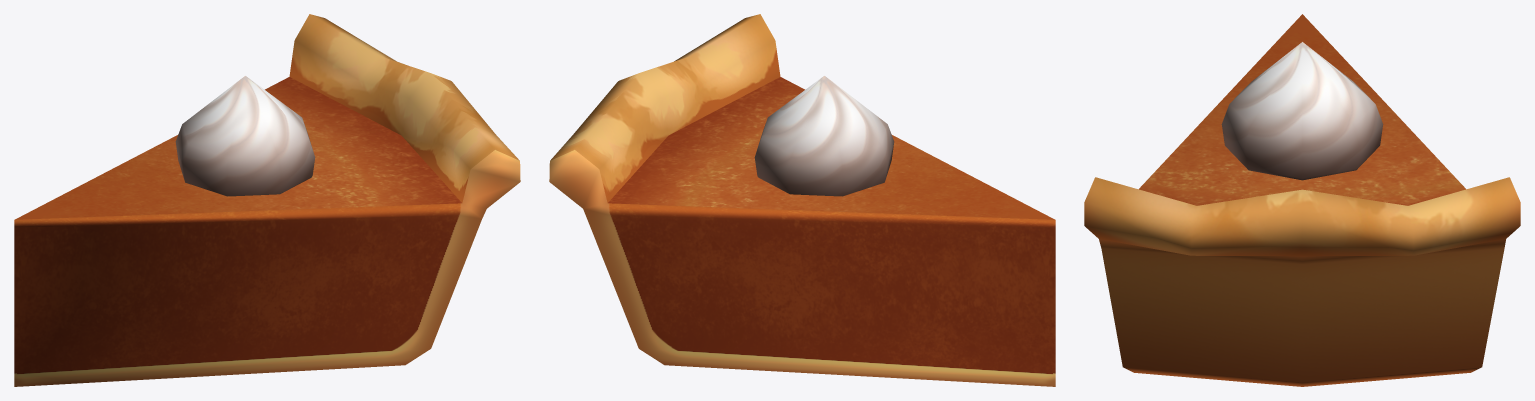
The model's file is Pie_Pumpkin.fbx.
3 views of the same model, side by side, from view 1: azimuth 30°, elevation 25°; view 2: azimuth 150°, elevation 25°; view 3: azimuth 270°, elevation 25° (orthographic). The views are drawn at different scales.
Parts seen in each view (by area): view 1: Pie_Pumpkin; view 2: Pie_Pumpkin; view 3: Pie_Pumpkin.
Part boxes in pixels (bbox=[...]): Pie_Pumpkin: bbox=[14, 14, 520, 386]; Pie_Pumpkin: bbox=[549, 14, 1055, 386]; Pie_Pumpkin: bbox=[1084, 14, 1520, 386].
Size of the model in its own units: 47.9 by 26.63 by 36.97.
